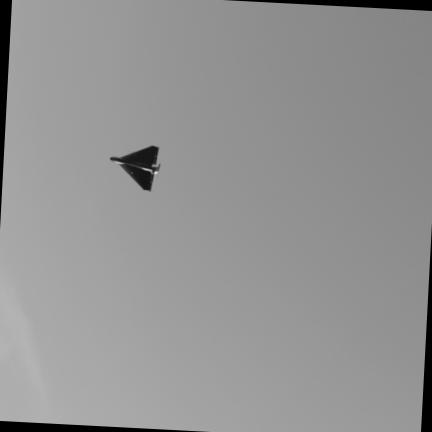Shahed: (109, 146, 158, 191)
